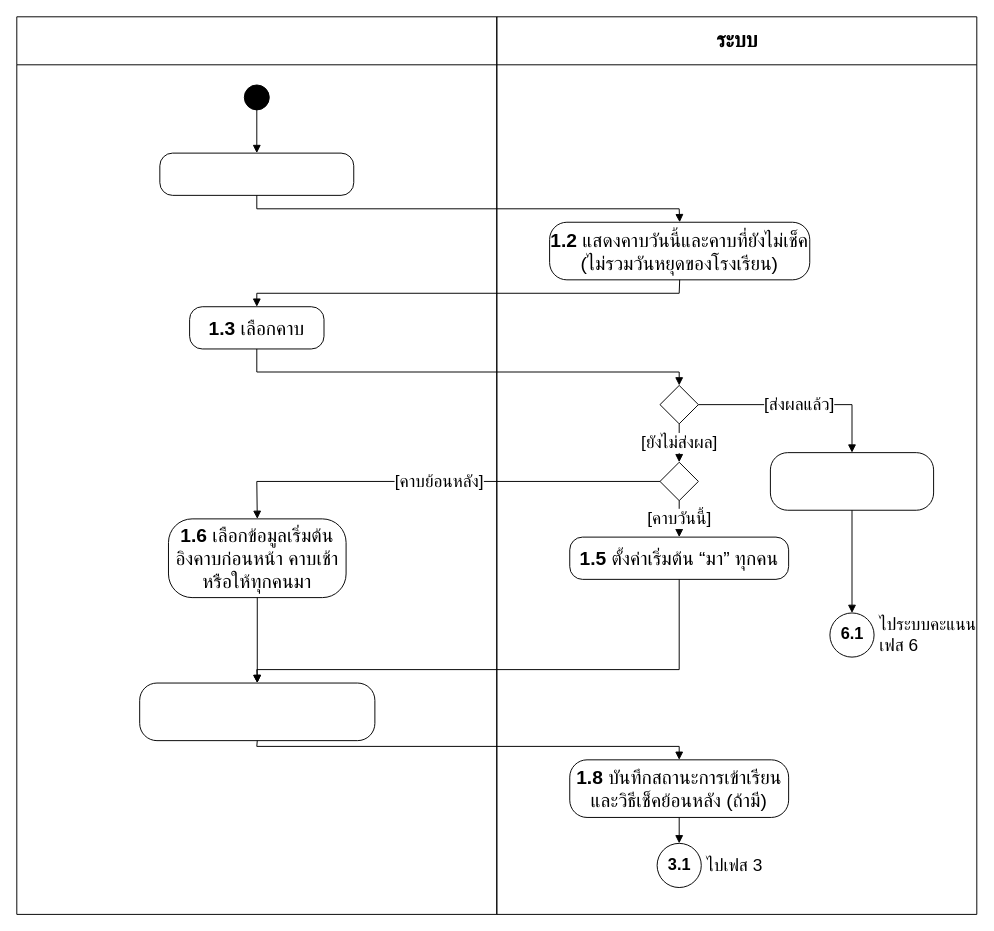
Image size: 994x931. Some labels were removed from this diagram. Each missing label, with the box of its shape:
1.1 เลือกเมนู “คาบวันนี้”: (159, 152, 354, 195)
1.4 แจ้งว่าการเช็คชื่อ ถูกล็อก: (769, 452, 934, 510)
1.7 เปลี่ยนสถานะ สาย ลา ขาด แล้วกด “บันทึก”: (139, 682, 375, 741)
ครูผู้สอน: (16, 16, 497, 914)
